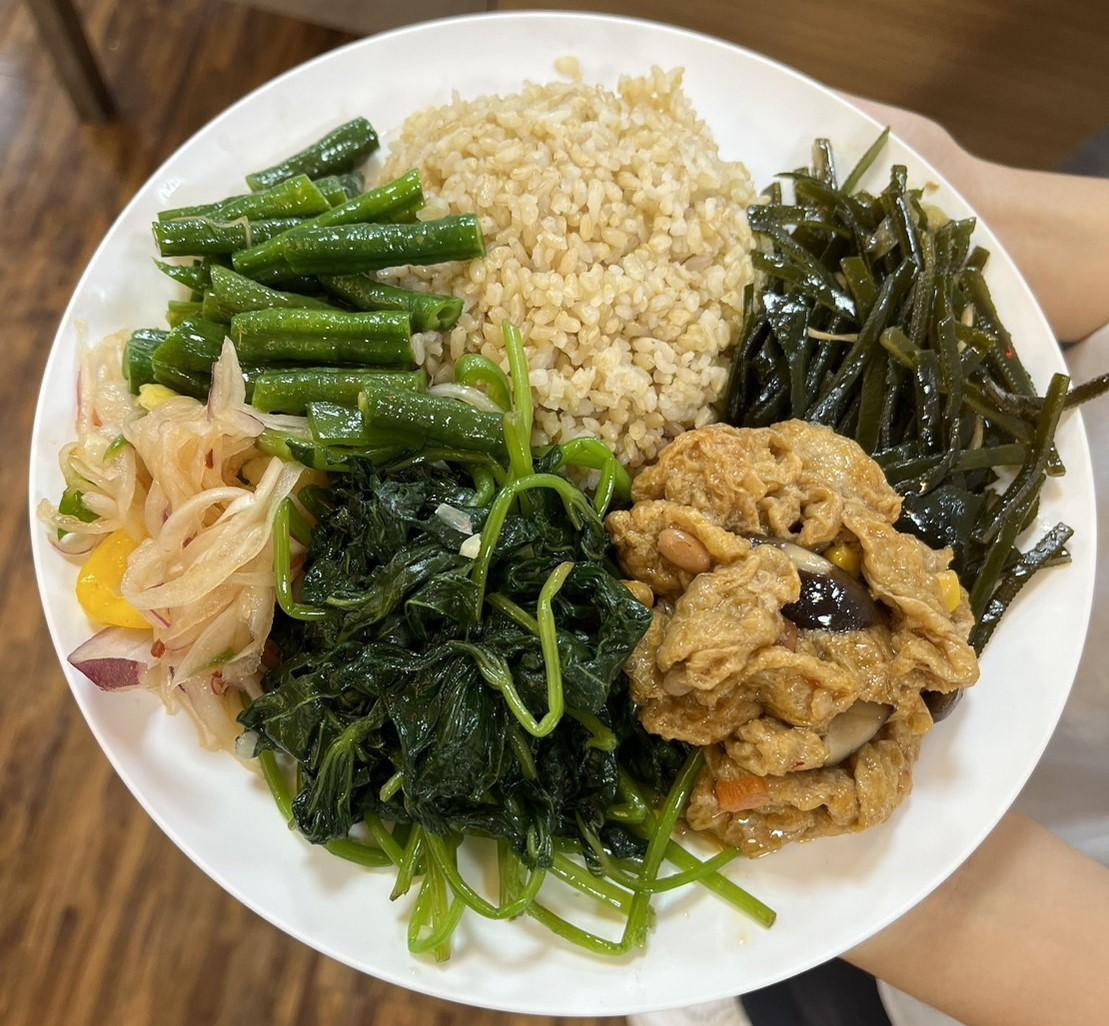big fried chicken leg: (20, 16, 1102, 1025)
box: (386, 73, 766, 445)
braised fish fillet: (260, 435, 700, 955), (730, 153, 1092, 627), (618, 406, 972, 847), (131, 116, 504, 457), (55, 355, 312, 733)
